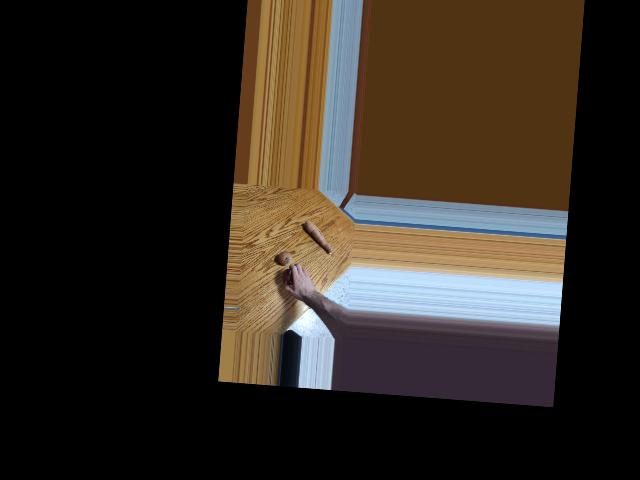onion: (283, 268, 295, 284)
